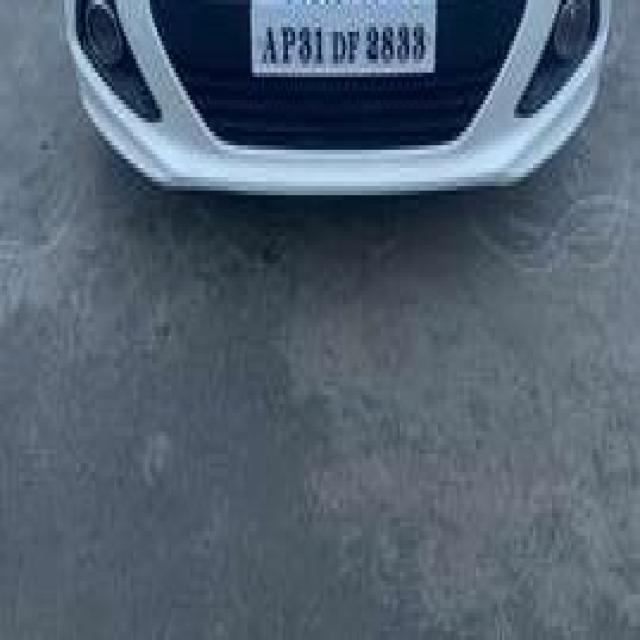licenseplate: (59, 0, 614, 200)
